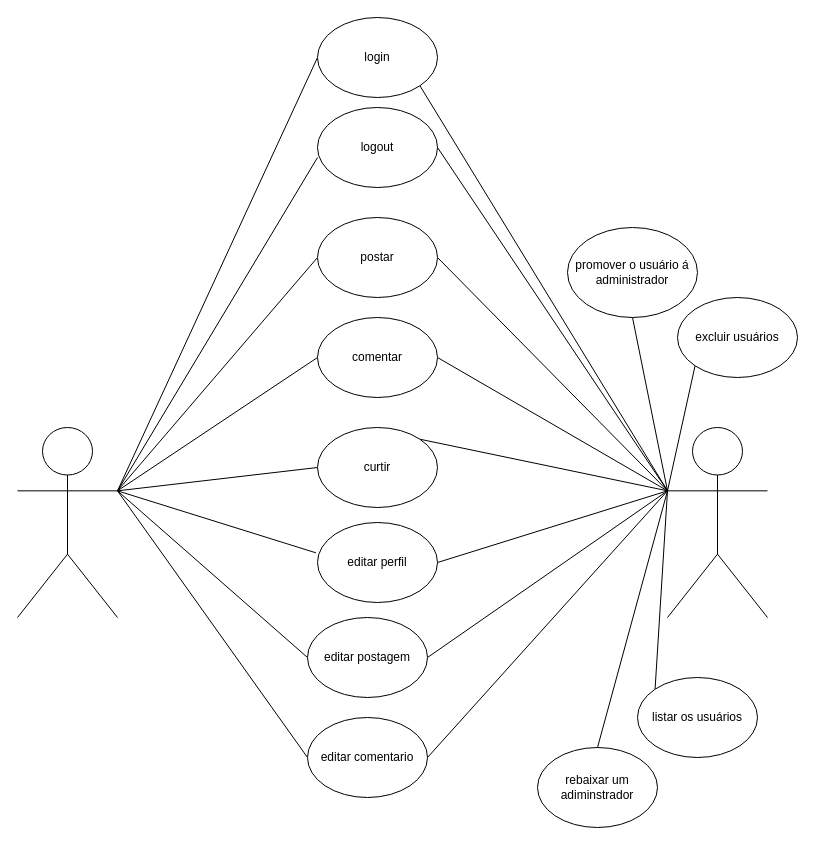
Image size: 815x845. Some labels were removed from this diagram. The shapes that lost their labels are listed below. From the top down, each one's centre as x and y in pixels, then its label:
At point 67,522: "Usuário".
At point 717,522: "Administrador".
